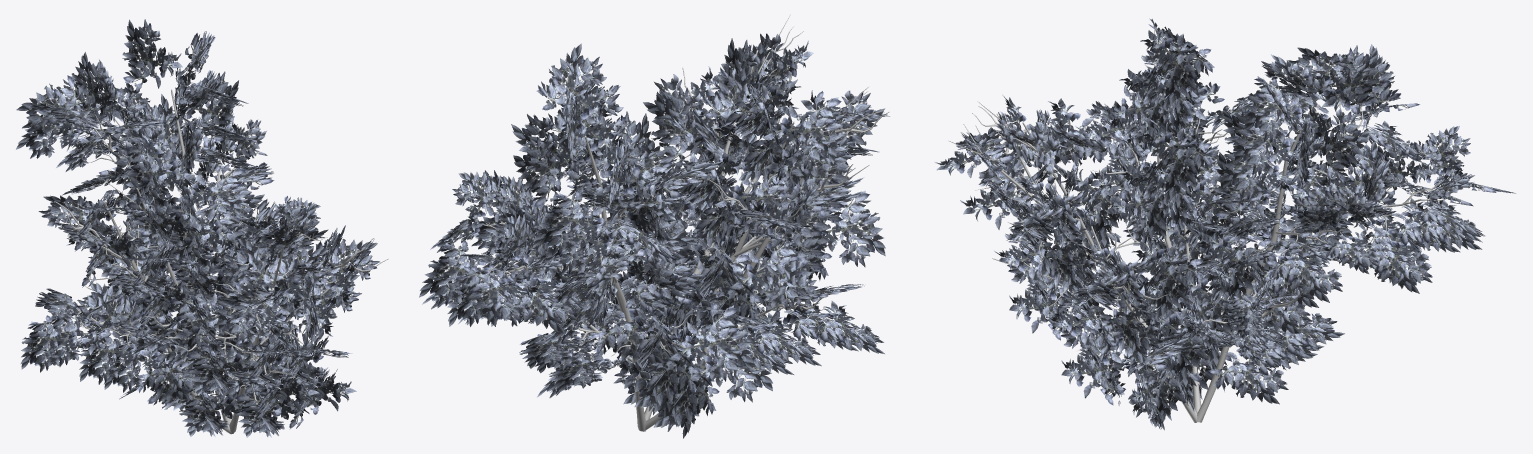
The model's file is shrub_hazel_01_winter.DAE.
The picture shows the model from 3 angles, left to right: view 1: azimuth 30°, elevation 25°; view 2: azimuth 150°, elevation 25°; view 3: azimuth 270°, elevation 25°; orthographic projection. The views are drawn at different scales.
Visible parts, largest first — view 1: Object169, shrub_hazel01_CommonHazelBark; view 2: Object169, shrub_hazel01_CommonHazelBark; view 3: Object169, shrub_hazel01_CommonHazelBark.
Boxes of the visible parts, x1=… form: Object169: x1=16, y1=19, x2=379, y2=437; shrub_hazel01_CommonHazelBark: x1=54, y1=89, x2=388, y2=434; Object169: x1=419, y1=33, x2=889, y2=438; shrub_hazel01_CommonHazelBark: x1=481, y1=14, x2=889, y2=431; Object169: x1=934, y1=18, x2=1515, y2=430; shrub_hazel01_CommonHazelBark: x1=949, y1=29, x2=1449, y2=422.
Size of the model in its own units: 1.95 by 2.07 by 2.89.
